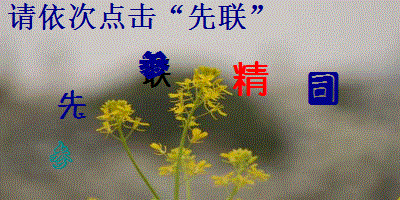result: (186, 2, 250, 31)
text: (231, 59, 270, 99), (305, 69, 341, 108), (139, 57, 174, 89), (137, 49, 170, 80), (57, 89, 87, 120), (47, 138, 74, 170)
